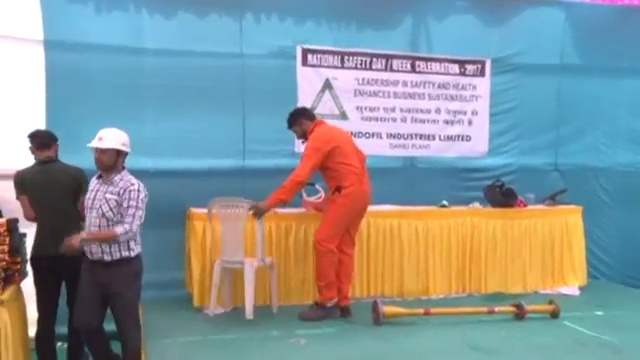helmet: (86, 125, 130, 154)
helmet_off: (284, 107, 318, 141), (27, 128, 60, 163)
helmet_on: (85, 126, 130, 177)
person: (252, 106, 367, 325), (69, 126, 145, 360), (16, 128, 84, 360)
